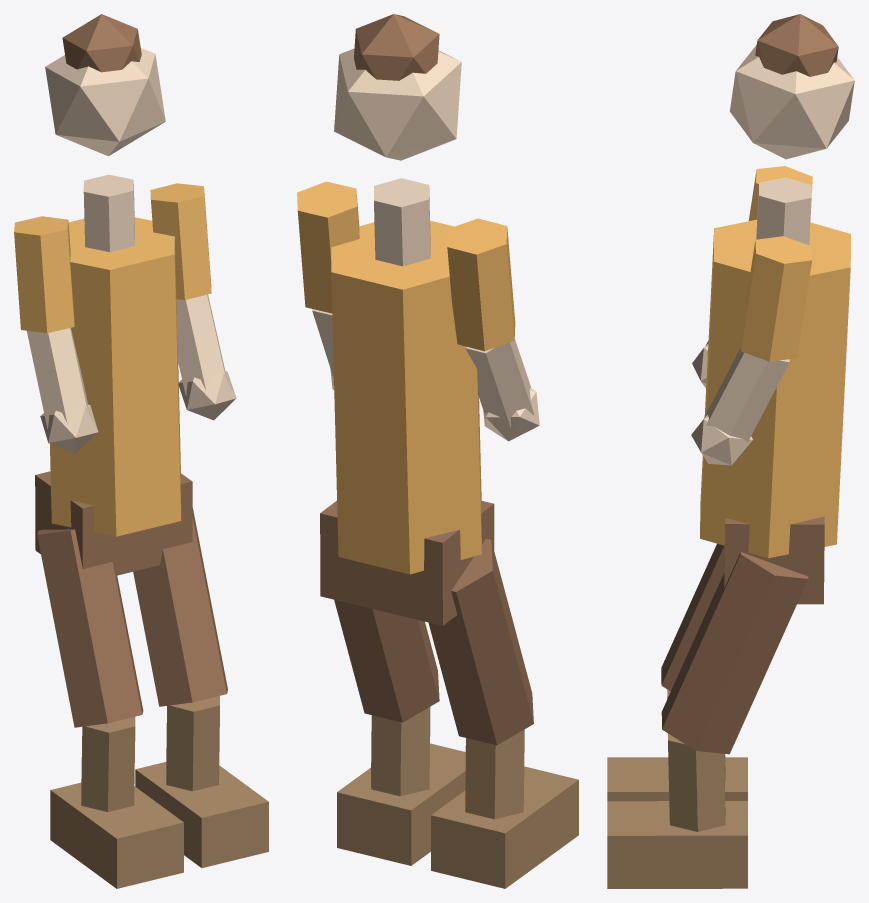
Rendered from pose_hit_light_19.glb.
The picture shows the model from 3 angles, left to right: view 1: azimuth 30°, elevation 25°; view 2: azimuth 150°, elevation 25°; view 3: azimuth 270°, elevation 25°; orthographic projection. The views are drawn at different scales.
Parts seen in each view (by area): view 1: pose; view 2: pose; view 3: pose.
Boxes of the visible parts, x1,y1,x2,y2 form: pose: (14, 14, 268, 888); pose: (297, 14, 578, 888); pose: (607, 14, 854, 888).
Size of the model in its own units: 0.3961 by 1.57 by 0.4225.
